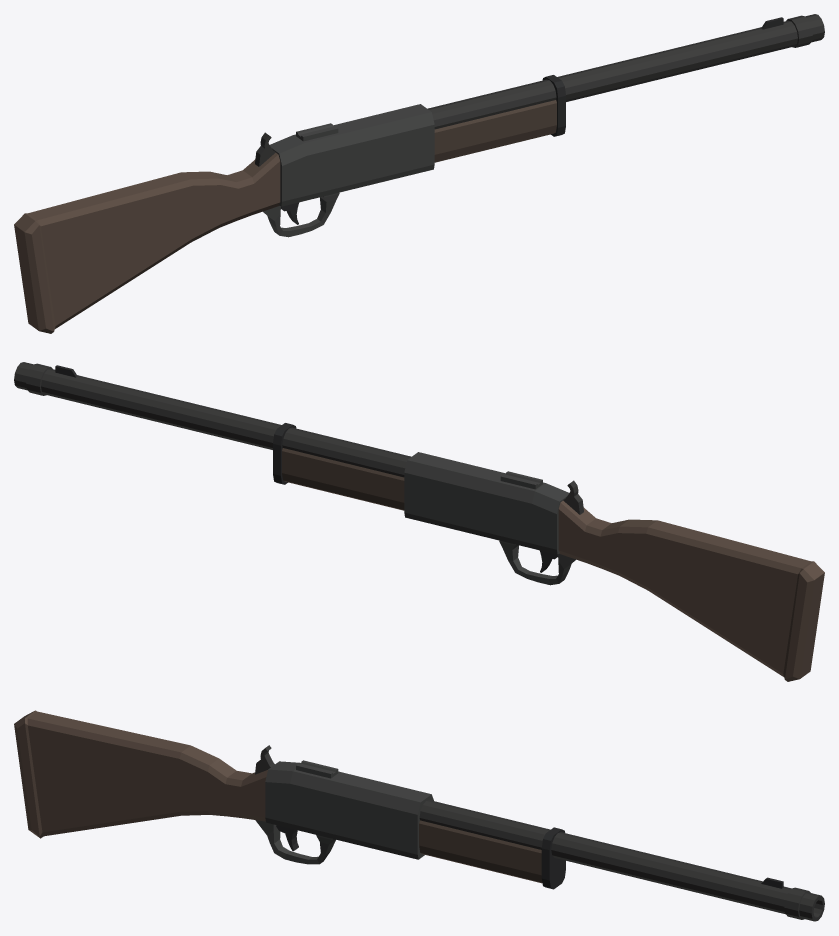
The picture shows the model from 3 angles, top to bottom: view 1: azimuth 30°, elevation 25°; view 2: azimuth 150°, elevation 25°; view 3: azimuth 330°, elevation 25°; orthographic projection.
Visible parts, largest first — view 1: Shotgun_4; view 2: Shotgun_4; view 3: Shotgun_4.
Part boxes in pixels (x1,y1,x2,y2): Shotgun_4: [14, 14, 824, 333]; Shotgun_4: [14, 362, 824, 681]; Shotgun_4: [14, 710, 824, 921].
Bounding box in the file's own units: 5.45 × 0.9268 × 0.1993.
